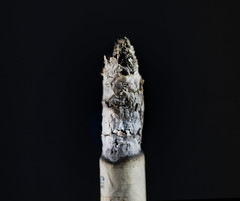cigarette: (96, 33, 150, 200)
